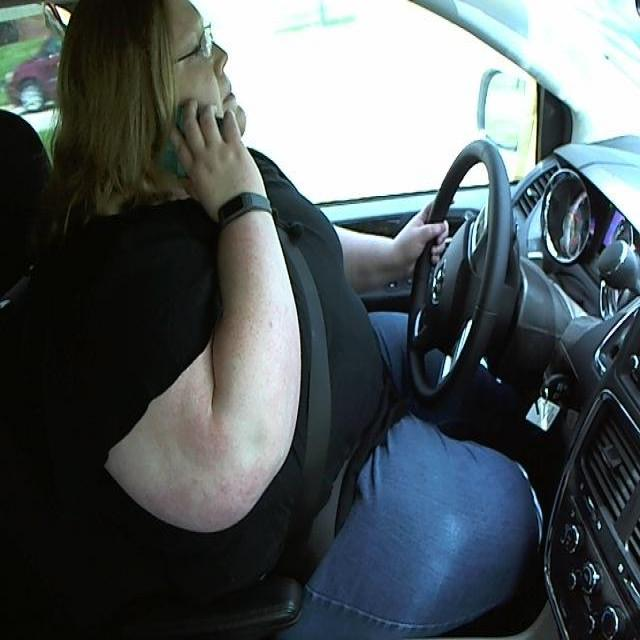using_phone: (28, 1, 280, 195)
